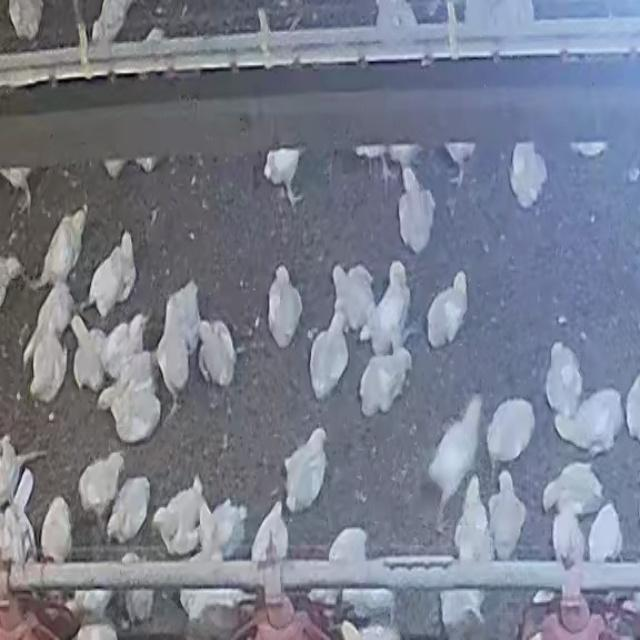chicken: (421, 388, 487, 529), (23, 285, 76, 405), (31, 207, 86, 291), (86, 229, 137, 319), (554, 389, 623, 455), (366, 260, 412, 356), (282, 422, 331, 512), (357, 346, 412, 418), (308, 310, 351, 402), (426, 269, 472, 351), (453, 472, 494, 562), (542, 462, 604, 521), (76, 450, 126, 523), (486, 469, 526, 560), (396, 166, 436, 255), (485, 398, 535, 468), (331, 263, 376, 339), (106, 475, 152, 548), (266, 263, 304, 351), (544, 339, 585, 414), (69, 316, 108, 394), (197, 319, 238, 388), (510, 141, 550, 208), (586, 502, 624, 564), (40, 496, 74, 562), (328, 527, 369, 565)
